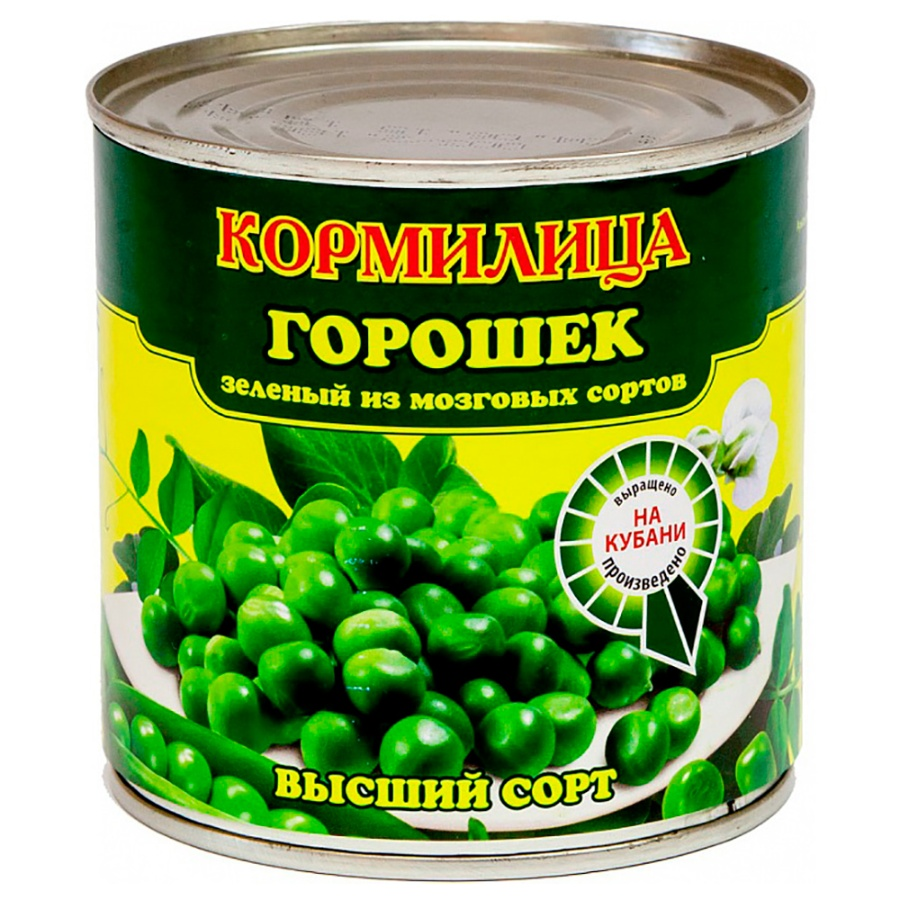peas: (31, 14, 863, 884)
